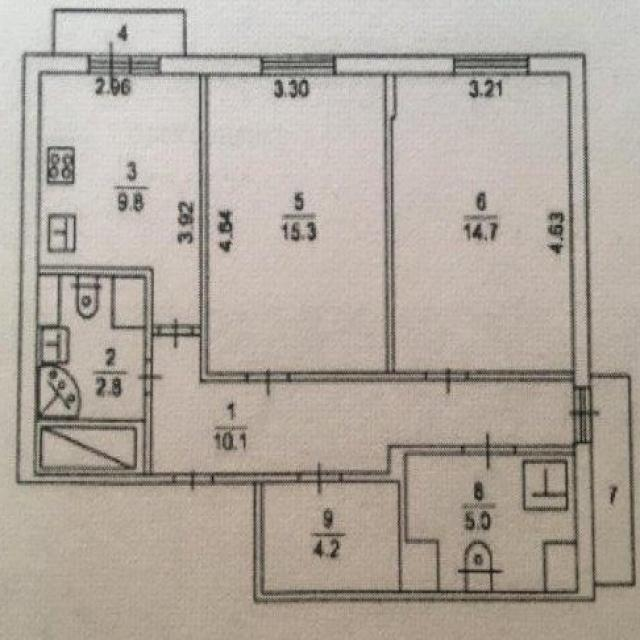Bathrooms: (407, 457, 575, 589), (37, 277, 145, 474)
Corridors: (153, 336, 572, 473), (590, 375, 634, 587), (53, 9, 185, 55)
Doors: (461, 430, 517, 473), (88, 39, 131, 86), (566, 387, 600, 444), (297, 461, 342, 494), (157, 314, 194, 350), (246, 369, 290, 396), (426, 368, 468, 396), (174, 469, 213, 494), (137, 360, 164, 393)
LBwalls: (17, 53, 88, 485), (529, 52, 591, 388), (574, 443, 596, 602), (335, 55, 454, 75), (161, 54, 261, 76), (399, 540, 439, 589), (544, 541, 577, 591)
Offices: (394, 76, 572, 370), (209, 77, 386, 370), (39, 76, 199, 324), (264, 484, 400, 587)
Walls: (212, 472, 578, 602), (290, 75, 427, 384), (192, 77, 247, 383), (35, 393, 173, 484), (39, 265, 160, 363), (340, 446, 462, 541), (466, 370, 573, 381), (516, 444, 573, 457)
Windows: (261, 54, 336, 77), (453, 53, 529, 75), (130, 54, 161, 75)
